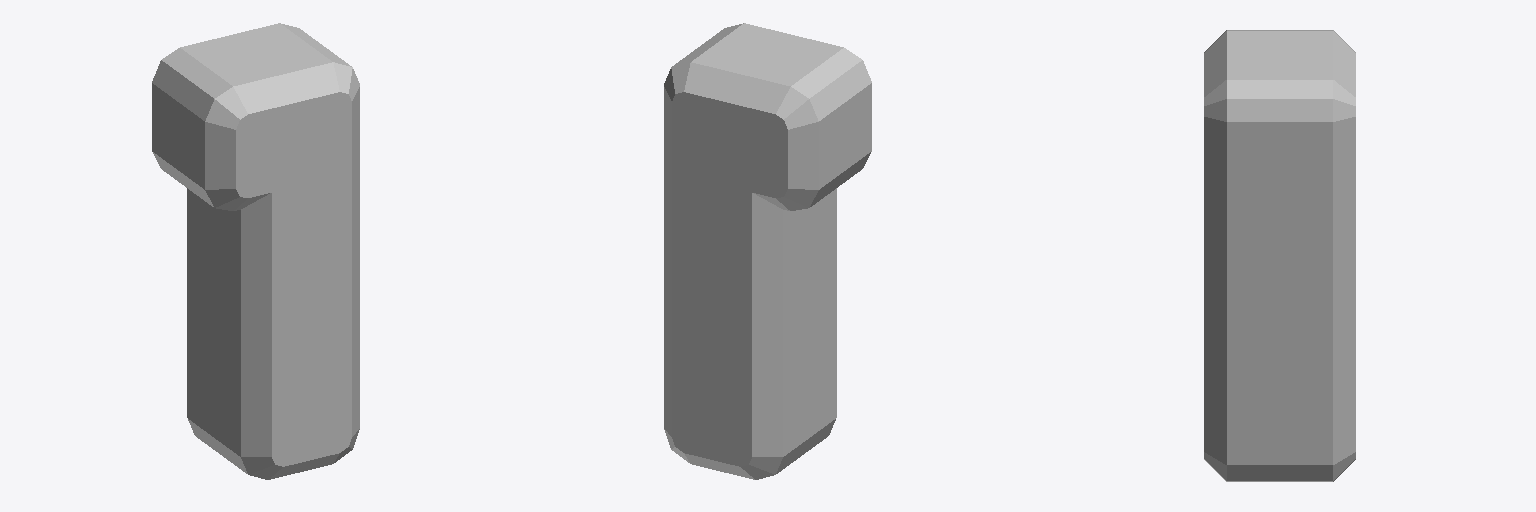
The model's file is fullStomach1.obj.
3 renders of one model, left to right at view 1: azimuth 30°, elevation 25°; view 2: azimuth 150°, elevation 25°; view 3: azimuth 270°, elevation 25°, orthographic.
Parts seen in each view (by area): view 1: テキスト; view 2: テキスト; view 3: テキスト.
Boxes of the visible parts, box(x1,y1,x2,y2) form: テキスト: box(152, 23, 359, 479); テキスト: box(664, 23, 871, 479); テキスト: box(1204, 30, 1355, 481).
Size of the model in its own units: 0.8723 by 2.16 by 0.74.